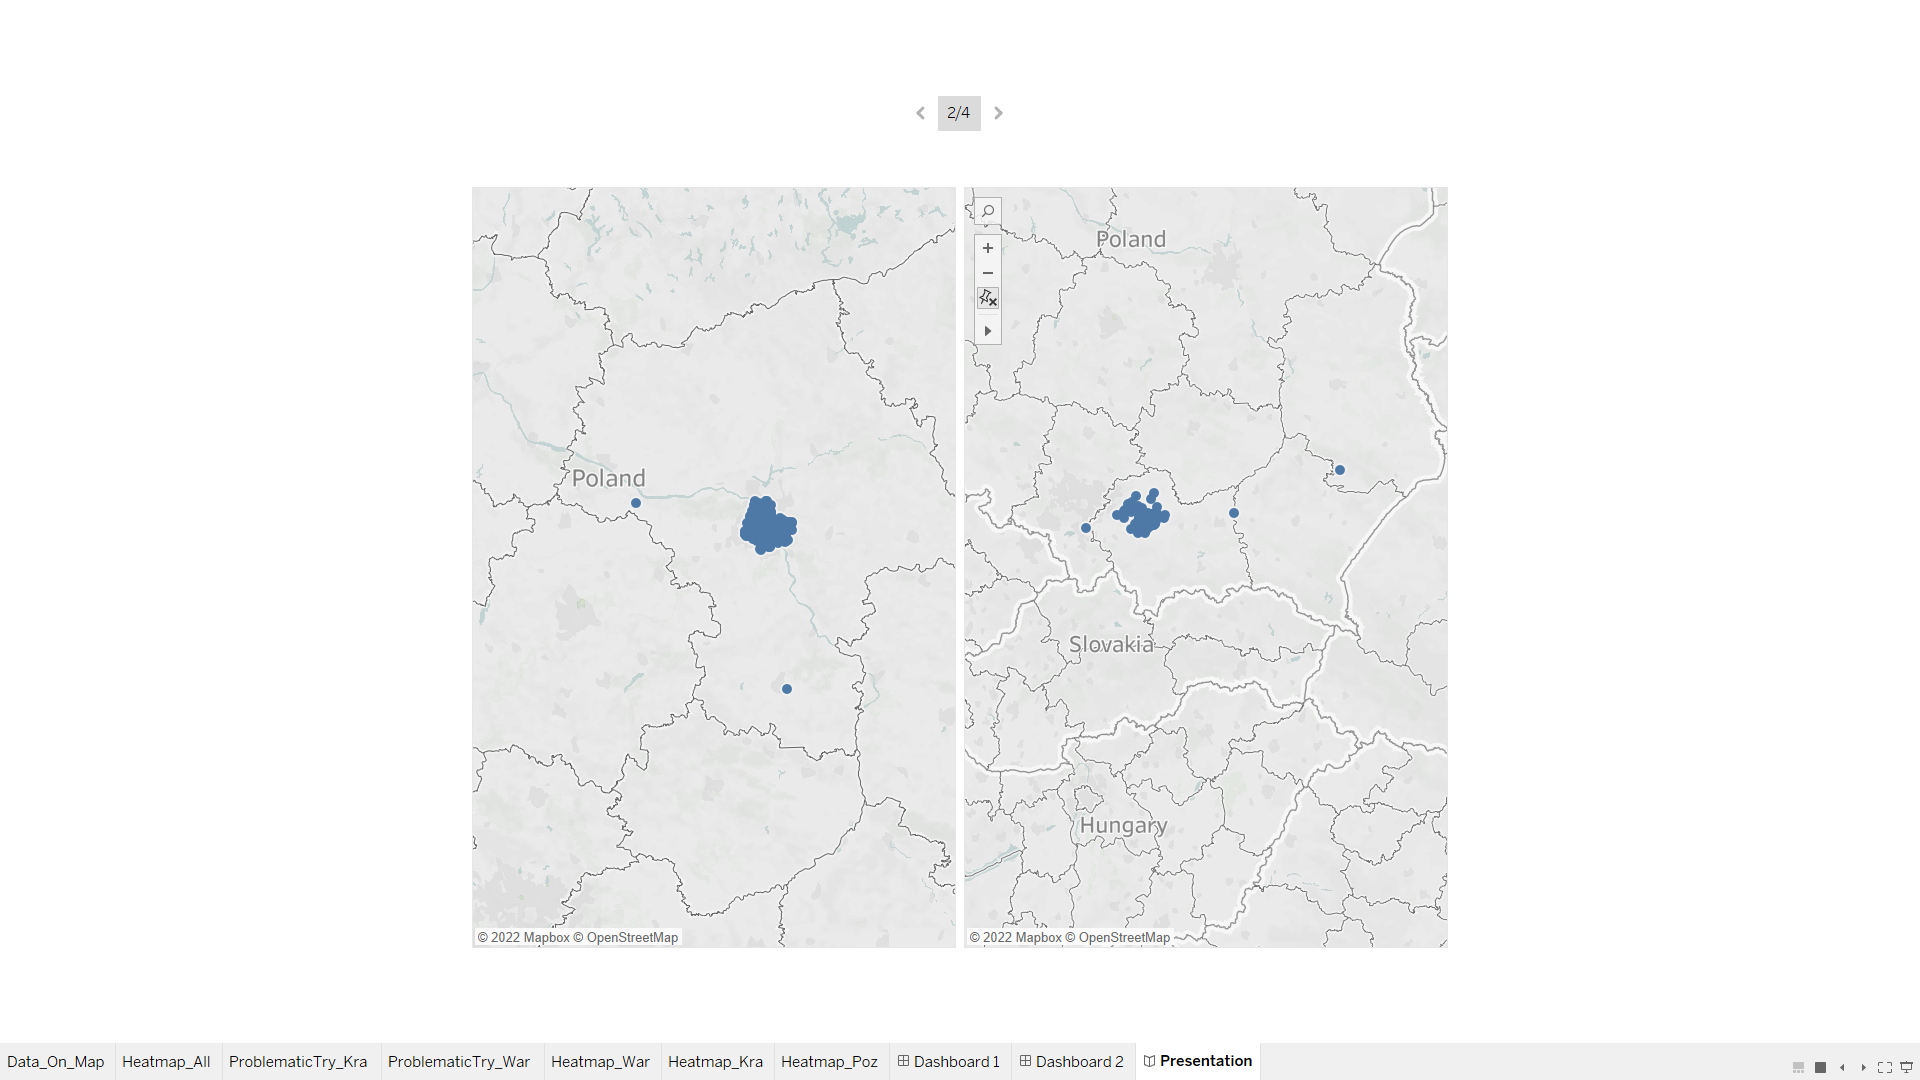

Layout of this report page (visuals, bound fields, positions):
{"tool":"tableau","page":{"name":"Dashboard 1","canvas":[1000,800],"ordinal":0},"visuals":[{"type":"worksheet","title":"ProblematicTry_War","mark":"Automatic","rows":["latitude"],"cols":["longitude"],"box":[8,8,492,784]},{"type":"worksheet","title":"ProblematicTry_Kra","mark":"Automatic","rows":["latitude"],"cols":["longitude"],"box":[500,8,492,784]}]}

Visuals, with their boxes on the page's 1000x800 design canvas (x1, y1, x2, y2). These are canvas units, not pixel positions in the 1920x1080 screenshot, which may show the page scaled, cropped or inside an application window:
"ProblematicTry_War" worksheet: crop(8, 8, 500, 792)
"ProblematicTry_Kra" worksheet: crop(500, 8, 992, 792)
